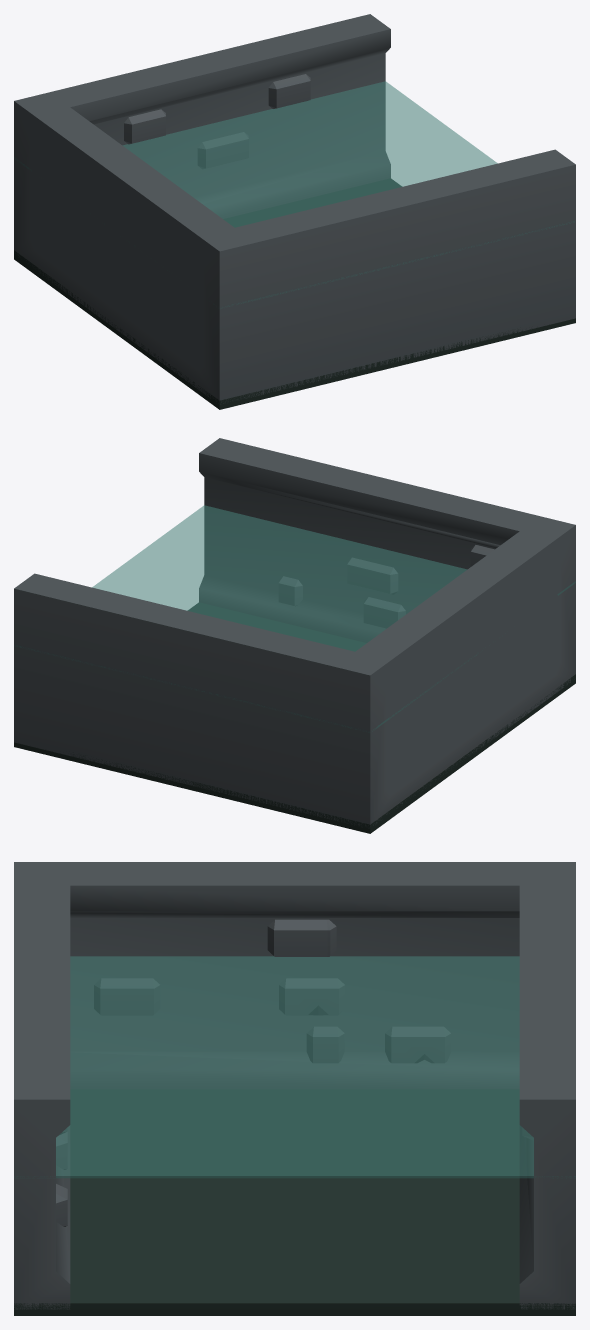
Rendered from floor_pool_runner_end_A.glb.
The picture shows the model from 3 angles, top to bottom: view 1: azimuth 30°, elevation 25°; view 2: azimuth 150°, elevation 25°; view 3: azimuth 270°, elevation 25°; orthographic projection. The views are drawn at different scales.
Visible parts, largest first — view 1: Item; view 2: Item; view 3: Item.
Boxes of the visible parts, x1=… form: Item: x1=14, y1=14, x2=575, y2=409; Item: x1=14, y1=438, x2=575, y2=833; Item: x1=14, y1=862, x2=575, y2=1315.
Bounding box in the file's own units: 4 × 1.7 × 4.
Materials: 3 (3 with a texture image).
